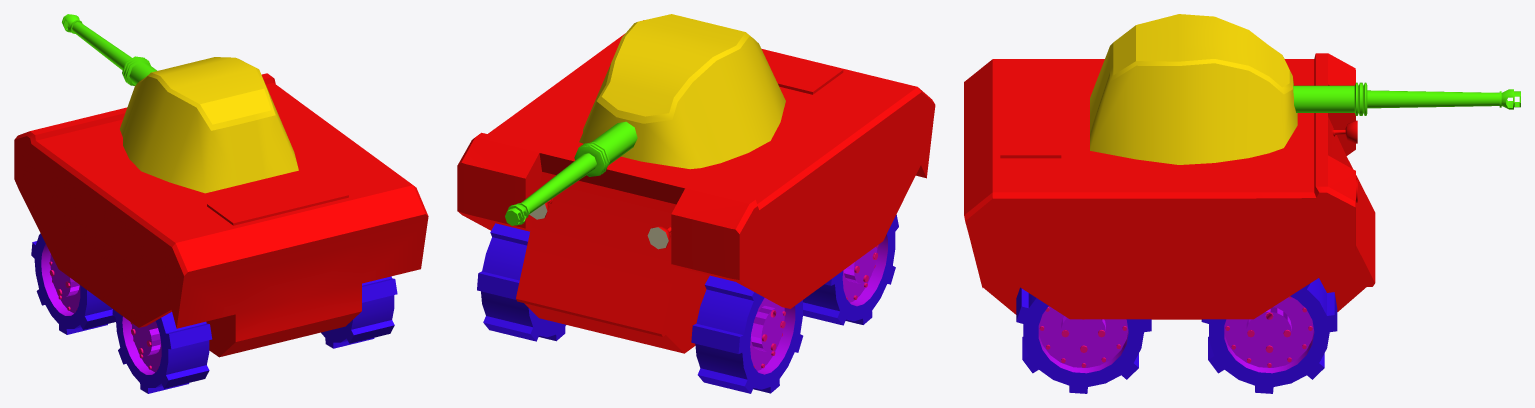
The model's file is VK4502 (P) Vorne.fbx.
3 renders of one model, left to right at view 1: azimuth 30°, elevation 25°; view 2: azimuth 150°, elevation 25°; view 3: azimuth 270°, elevation 25°, orthographic. The views are drawn at different scales.
Visible parts, largest first — view 1: VK4502 (P) VorneBody, VK4502 (P) VorneTurret, VK4502 (P) VorneWheels (×3), VK4502 (P) VorneCanon; view 2: VK4502 (P) VorneBody, VK4502 (P) VorneTurret, VK4502 (P) VorneWheels (×3), VK4502 (P) VorneCanon; view 3: VK4502 (P) VorneBody, VK4502 (P) VorneTurret, VK4502 (P) VorneWheels (×2), VK4502 (P) VorneCanon.
Boxes of the visible parts, x1,y1,x2,y2 form: VK4502 (P) VorneBody: (14,73,428,357); VK4502 (P) VorneTurret: (120,57,298,193); VK4502 (P) VorneWheels (×3): (31,233,397,393); VK4502 (P) VorneCanon: (62,14,157,85); VK4502 (P) VorneBody: (457,20,935,353); VK4502 (P) VorneTurret: (579,14,785,169); VK4502 (P) VorneWheels (×3): (477,214,898,393); VK4502 (P) VorneCanon: (505,121,637,225); VK4502 (P) VorneBody: (964,53,1375,319); VK4502 (P) VorneTurret: (1090,14,1297,164); VK4502 (P) VorneWheels (×2): (1016,278,1337,393); VK4502 (P) VorneCanon: (1293,82,1520,115).
Bounding box in the file's own units: 2.14 × 2.13 × 3.67.
